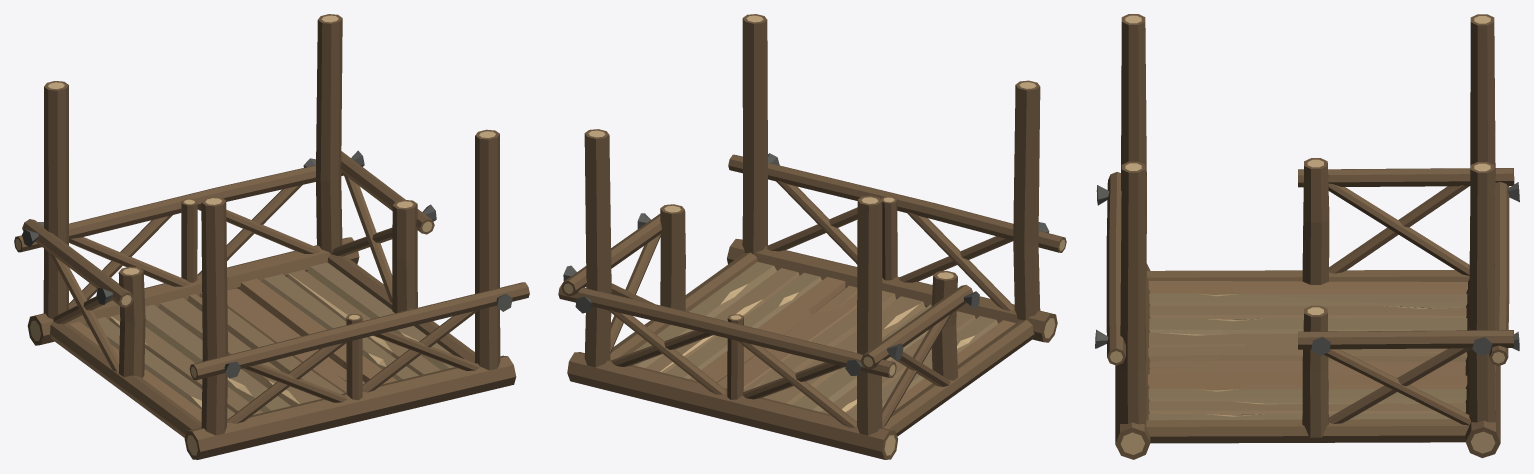
File: rpgpp_ag_tower_01_platform_02c.fbx
The picture shows the model from 3 angles, left to right: view 1: azimuth 30°, elevation 25°; view 2: azimuth 150°, elevation 25°; view 3: azimuth 270°, elevation 25°; orthographic projection. The views are drawn at different scales.
Parts seen in each view (by area): view 1: rpgpp_ag_tower_01_platform_02c; view 2: rpgpp_ag_tower_01_platform_02c; view 3: rpgpp_ag_tower_01_platform_02c.
Boxes of the visible parts, x1,y1,x2,y2 form: rpgpp_ag_tower_01_platform_02c: [14, 14, 529, 459]; rpgpp_ag_tower_01_platform_02c: [558, 14, 1066, 459]; rpgpp_ag_tower_01_platform_02c: [1095, 14, 1519, 459].
Size of the model in its own units: 4.84 by 3.52 by 4.81.
